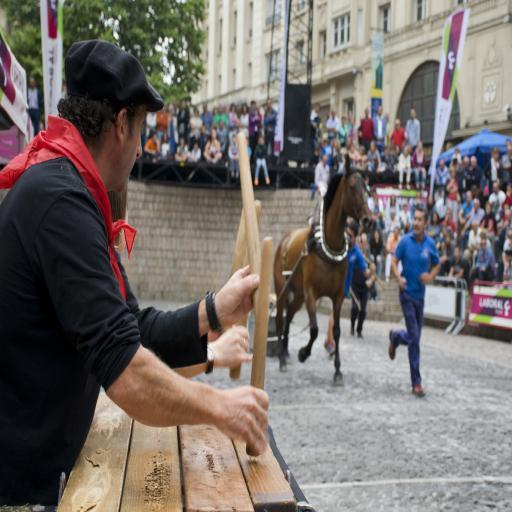horse: (274, 151, 378, 389)
